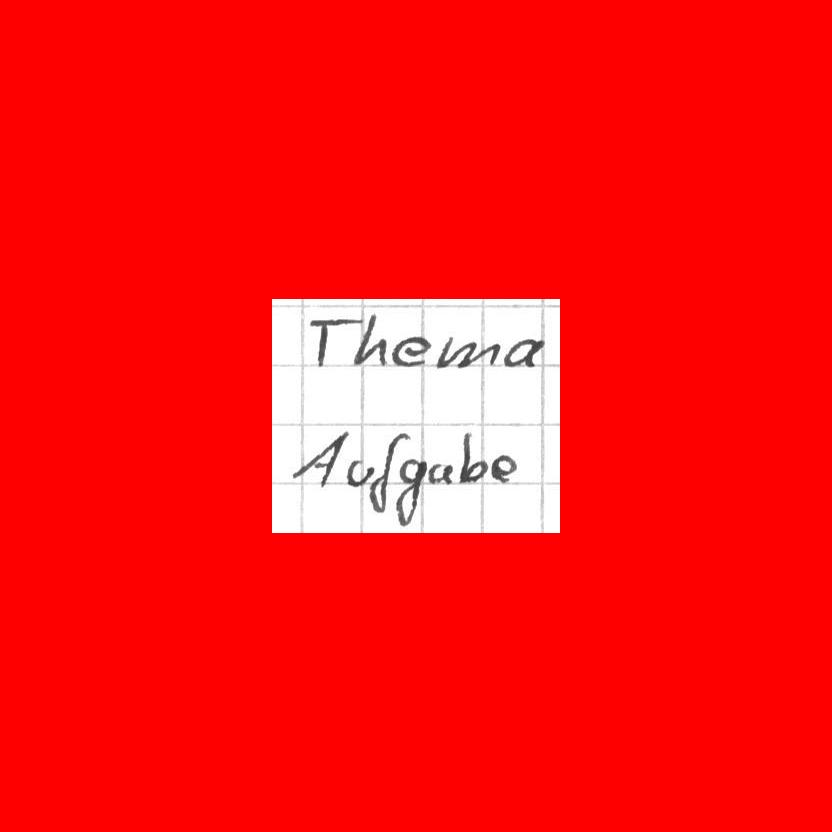Char: (293, 427, 351, 486), (369, 427, 405, 512), (309, 311, 361, 369), (392, 453, 426, 527), (353, 304, 389, 369), (434, 335, 502, 369), (455, 429, 490, 484), (390, 330, 435, 369), (502, 335, 549, 368), (488, 451, 520, 483), (345, 456, 375, 489), (424, 457, 454, 487)
